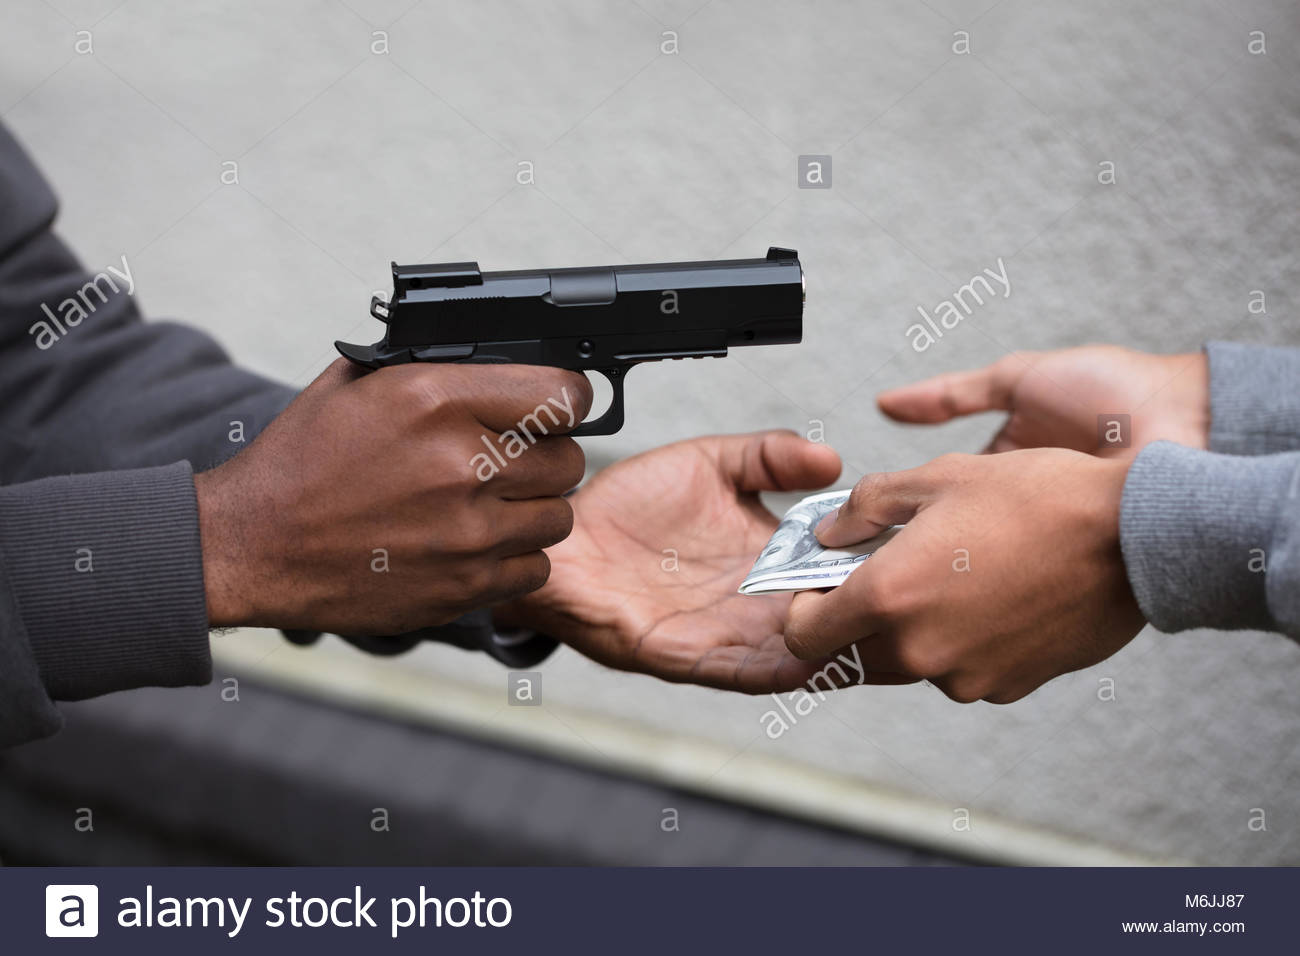pistol: (229, 155, 820, 641)
